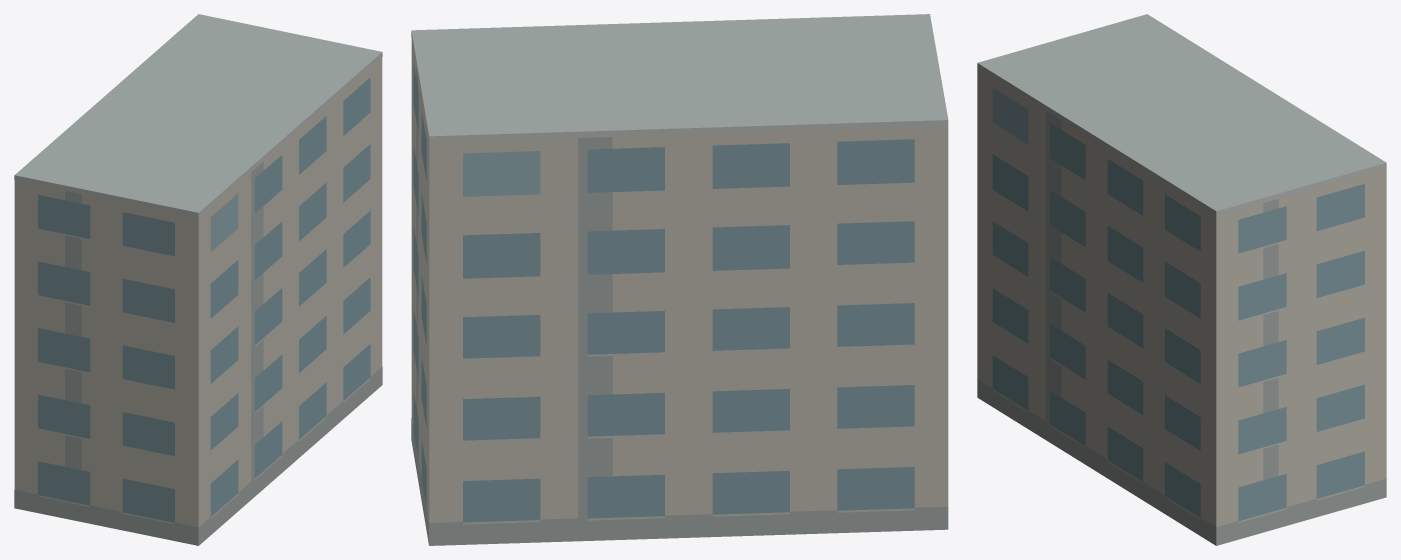
File: survey-upis-32768793.glb
3 views of the same model, side by side, from view 1: azimuth 30°, elevation 25°; view 2: azimuth 150°, elevation 25°; view 3: azimuth 270°, elevation 25° (orthographic). The views are drawn at different scales.
Parts seen in each view (by area): view 1: survey-upis-32768793.tmp; view 2: survey-upis-32768793.tmp; view 3: survey-upis-32768793.tmp.
Boxes of the visible parts, box(x1,y1,x2,y2) form: survey-upis-32768793.tmp: box(14, 14, 382, 545); survey-upis-32768793.tmp: box(411, 14, 948, 545); survey-upis-32768793.tmp: box(977, 14, 1386, 545).
Bounding box in the file's own units: 19.79 × 15.65 × 17.36.
